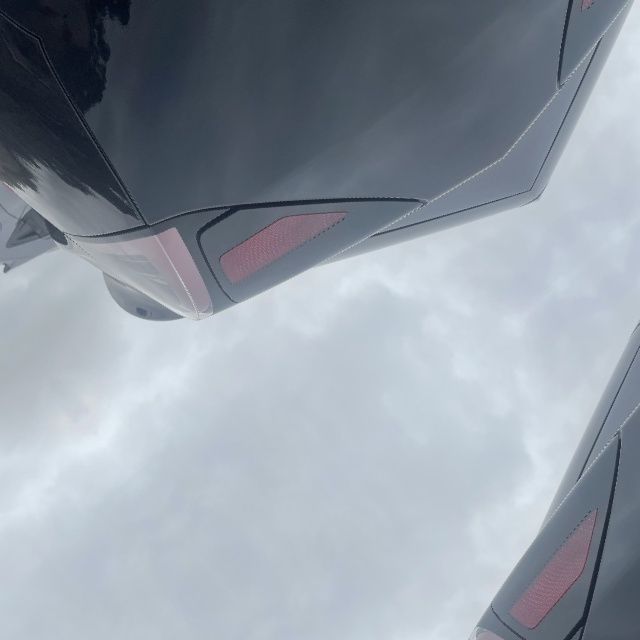reflector: (212, 174, 349, 302)
